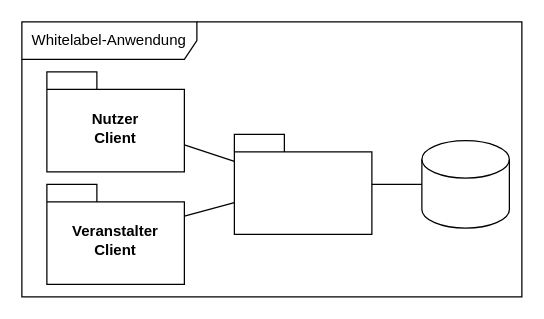
This 544x319 diagram has some shape labels left out. Each missing label, with the centre of its shape:
Datenbank: point 465,183
Server: point 302,183
